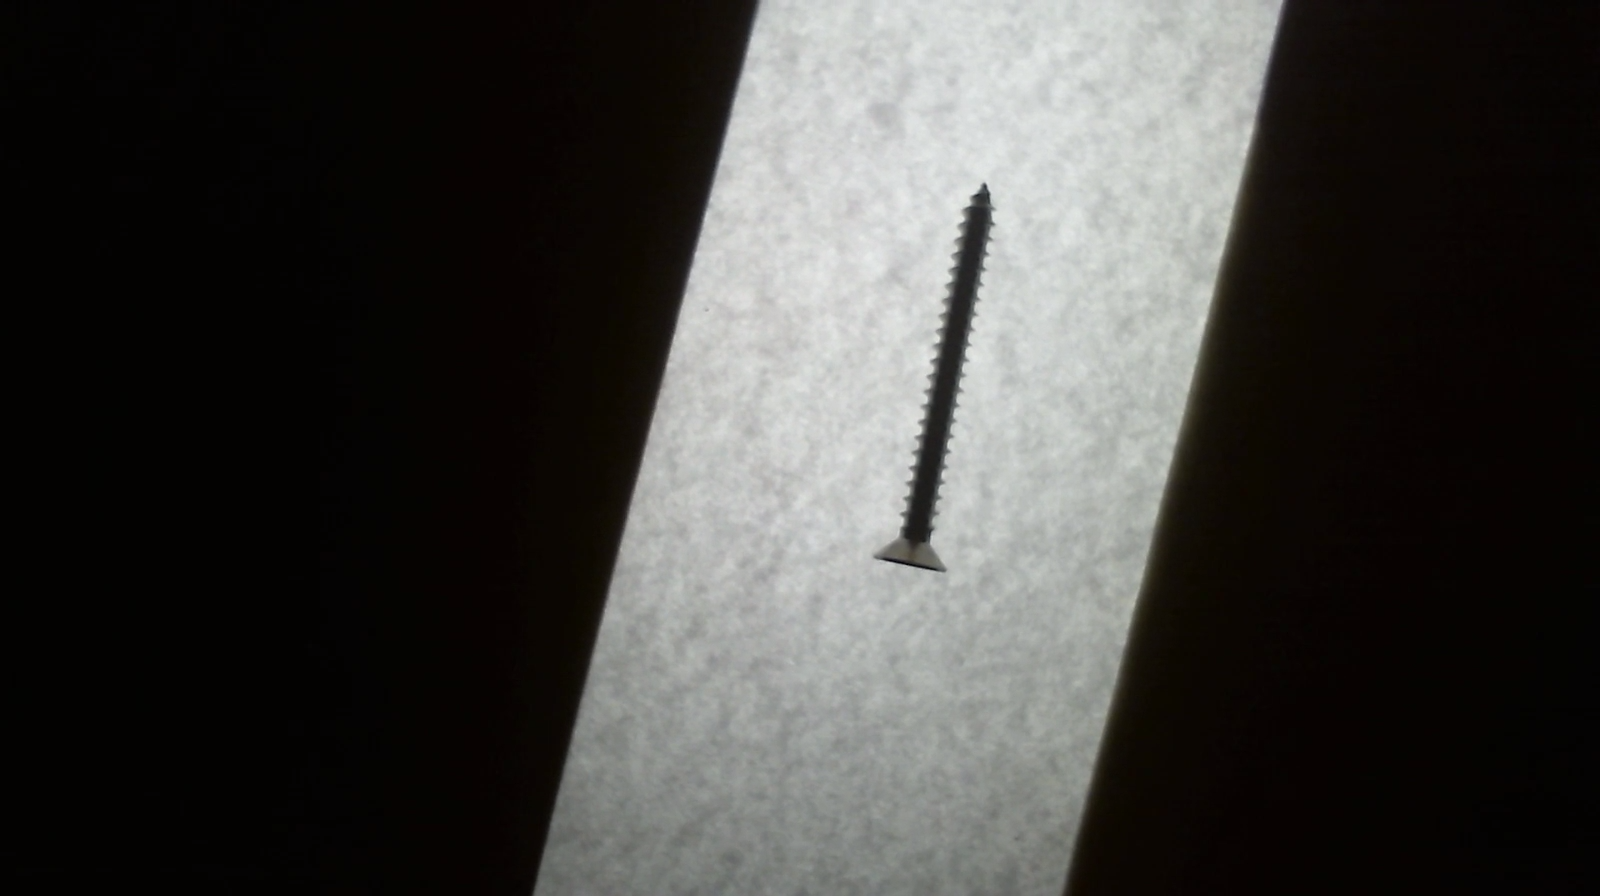S002: (870, 180, 1009, 585)
